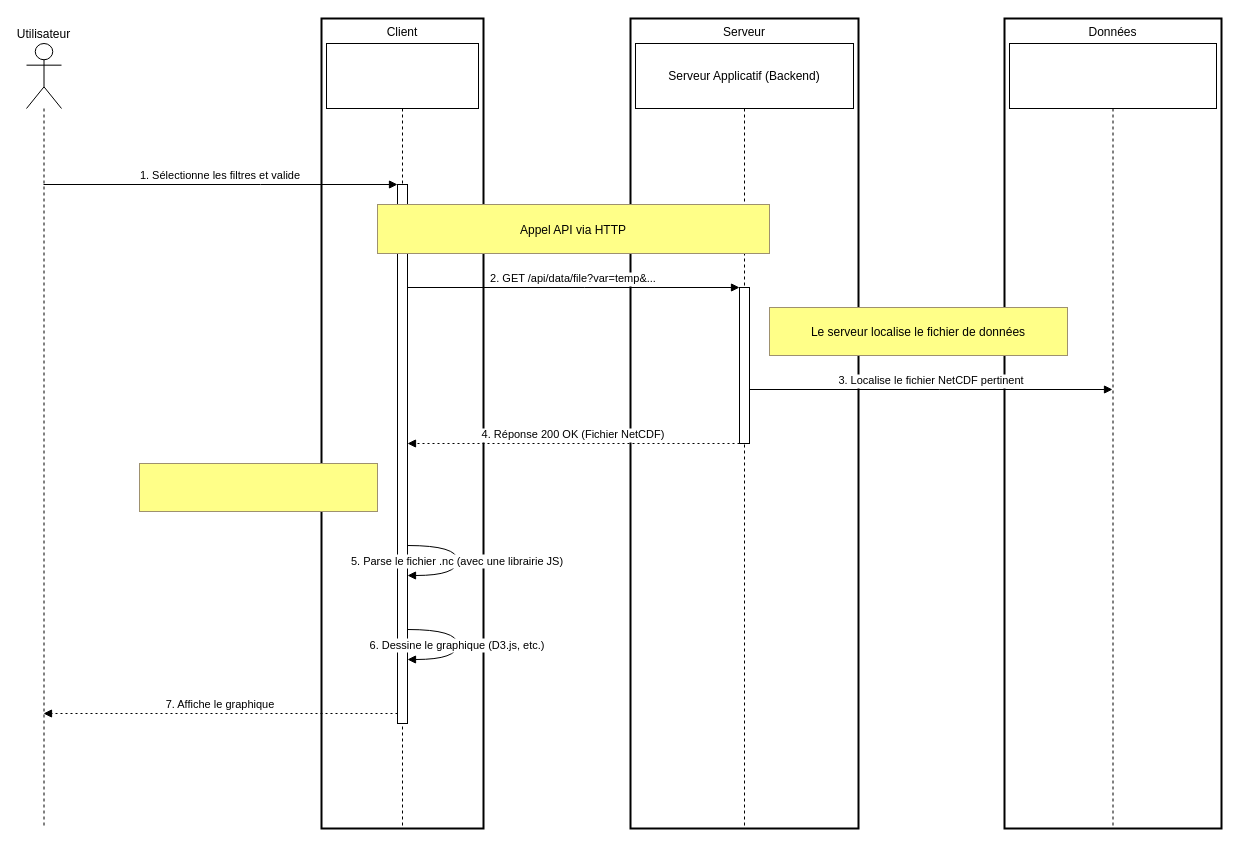
Some shapes in this 1239 by 846 pixel diagram are drawn without their labels. Here are the shapes that lost their labels. From the top down, the box of each, then its label:
(326, 42, 478, 828): Navigateur (Client)
(1008, 42, 1216, 828): Stockage de Données (.nc)
(138, 462, 378, 512): Rendu et traitement côté client
